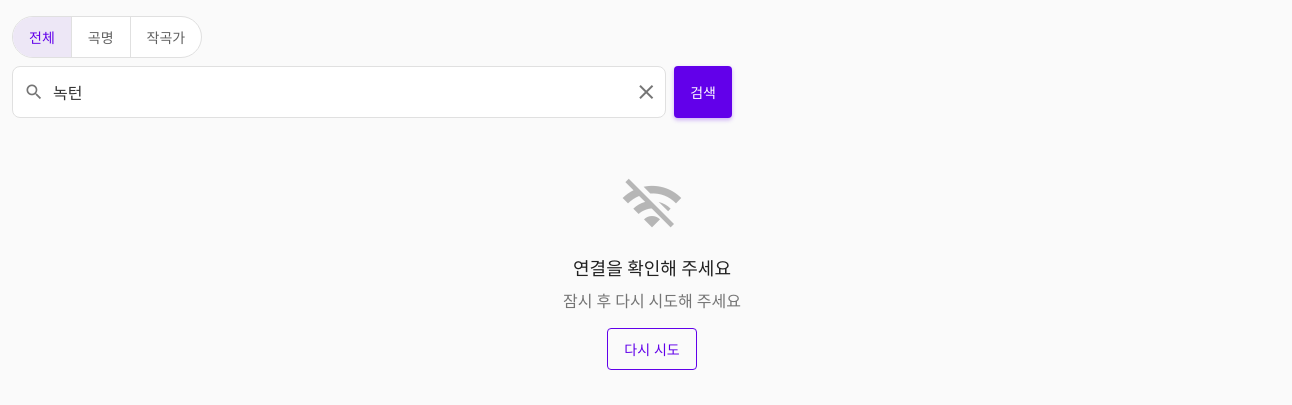
SearchResultPage — 빈 상태·오류 › 불러오기 실패 → '연결을 확인해 주세요' + '다시 시도'(재요청), 검색창은 살아 있음
The image size is (1292, 405).
Expected: the field with placeholder "곡 이름, 작곡가, 작품번호로 찾기 — 예: 월광, 쇼팽 녹턴, K.545" is shown, [12,66,666,118]
Click the button "다시 시도" at point(652, 349), box [607,328,697,370]
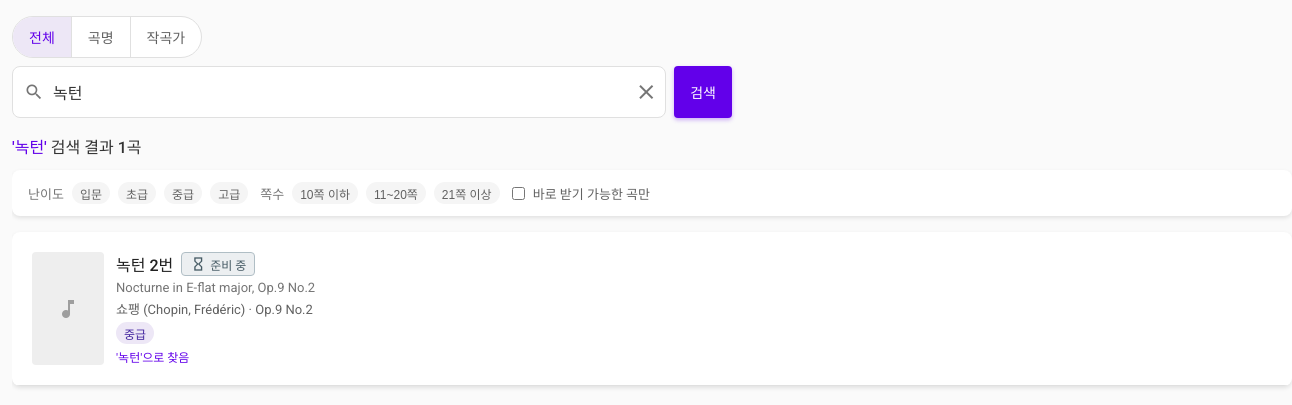
Now the text "녹턴 2번" is shown, box [116,252,173,276]
